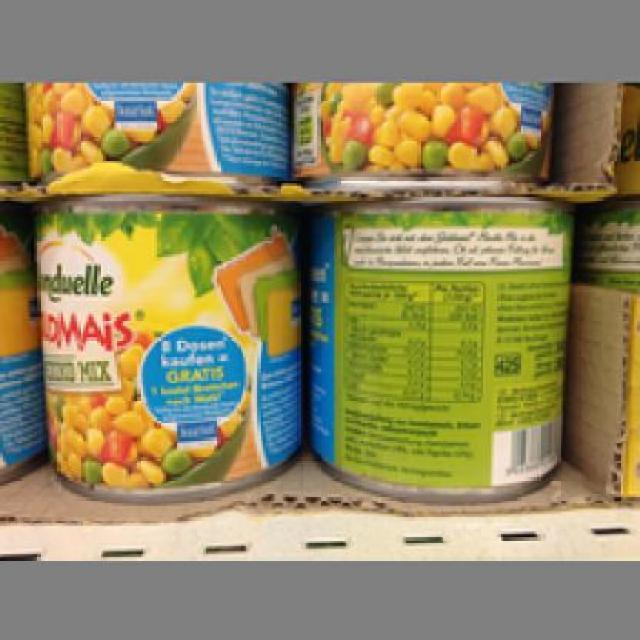Corn: (26, 191, 306, 504), (297, 197, 574, 497)
